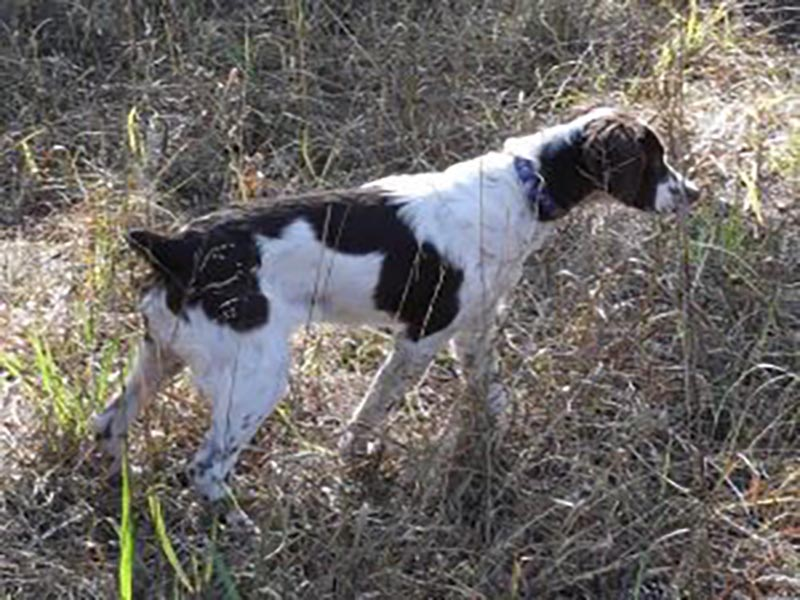cane da caccia: (85, 104, 706, 523)
